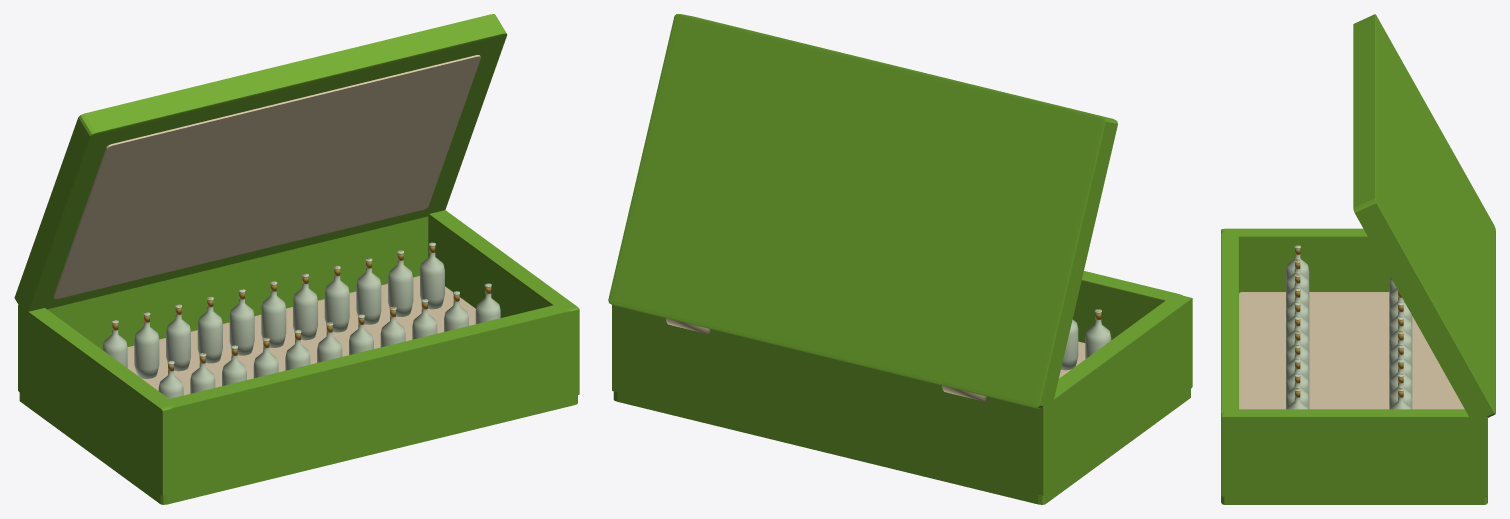
3 renders of one model, left to right at view 1: azimuth 30°, elevation 25°; view 2: azimuth 150°, elevation 25°; view 3: azimuth 270°, elevation 25°, orthographic. The views are drawn at different scales.
Visible parts, largest first — view 1: TI059 / lid lining, TI059 / case end, TI059 / separate lid panel, TI059 / case end.001, TI059 / case side, TI059 / case bottom, TI059 / case side.001, TI059 / case liner, TI059 / bottle body.012, TI059 / bottle body.014, TI059 / bottle body.018, TI059 / bottle body.016 (+7 smaller); view 2: TI059 / separate lid panel, TI059 / case end.001, TI059 / case side, TI059 / case bottom, TI059 / case end, TI059 / case side.001, TI059 / bottle body; view 3: TI059 / separate lid panel, TI059 / case side.001, TI059 / case liner, TI059 / case side, TI059 / case bottom, TI059 / case end, TI059 / bottle body.005, TI059 / bottle body.008, TI059 / bottle body.002, TI059 / bottle body.003, TI059 / bottle body.007, TI059 / bottle body (+10 smaller).
Boxes of the visible parts, x1,y1,x2,y2 form: TI059 / lid lining: [53, 55, 480, 299]; TI059 / case end: [166, 304, 570, 474]; TI059 / separate lid panel: [14, 14, 507, 312]; TI059 / case end.001: [47, 216, 428, 349]; TI059 / case side: [18, 305, 178, 496]; TI059 / case bottom: [19, 378, 577, 504]; TI059 / case side.001: [428, 210, 579, 395]; TI059 / case liner: [127, 276, 475, 395]; TI059 / bottle body.012: [134, 312, 159, 378]; TI059 / bottle body.014: [197, 296, 222, 363]; TI059 / bottle body.018: [324, 265, 349, 332]; TI059 / bottle body.016: [261, 281, 286, 347]; TI059 / separate lid panel: [608, 14, 1117, 408]; TI059 / case end.001: [625, 308, 1029, 492]; TI059 / case side: [1026, 294, 1192, 496]; TI059 / case bottom: [613, 371, 1190, 504]; TI059 / case end: [1073, 271, 1182, 342]; TI059 / case side.001: [612, 305, 628, 394]; TI059 / bottle body: [1085, 309, 1111, 358]; TI059 / separate lid panel: [1353, 14, 1495, 422]; TI059 / case side.001: [1221, 409, 1487, 496]; TI059 / case liner: [1239, 292, 1464, 409]; TI059 / case side: [1221, 228, 1389, 293]; TI059 / case bottom: [1221, 480, 1487, 504]; TI059 / case end: [1221, 233, 1238, 412]; TI059 / bottle body.005: [1286, 316, 1309, 355]; TI059 / bottle body.008: [1286, 359, 1309, 398]; TI059 / bottle body.002: [1286, 273, 1309, 312]; TI059 / bottle body.003: [1286, 288, 1309, 327]; TI059 / bottle body.007: [1286, 345, 1309, 384]; TI059 / bottle body: [1286, 245, 1309, 284].
Bounding box in the file's own units: 2.5 × 1.89 × 1.54.
